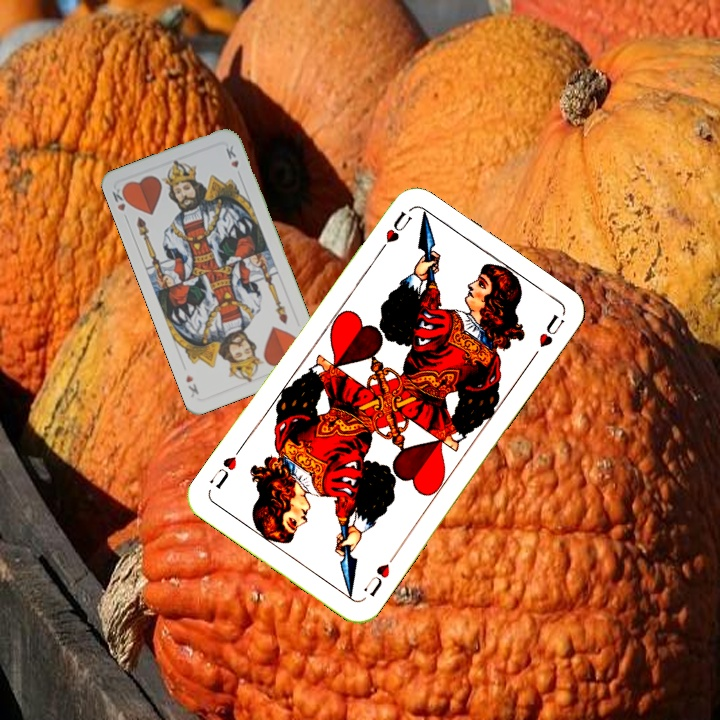HK: (108, 182, 133, 224)
HU: (373, 207, 415, 258), (360, 550, 399, 599)
